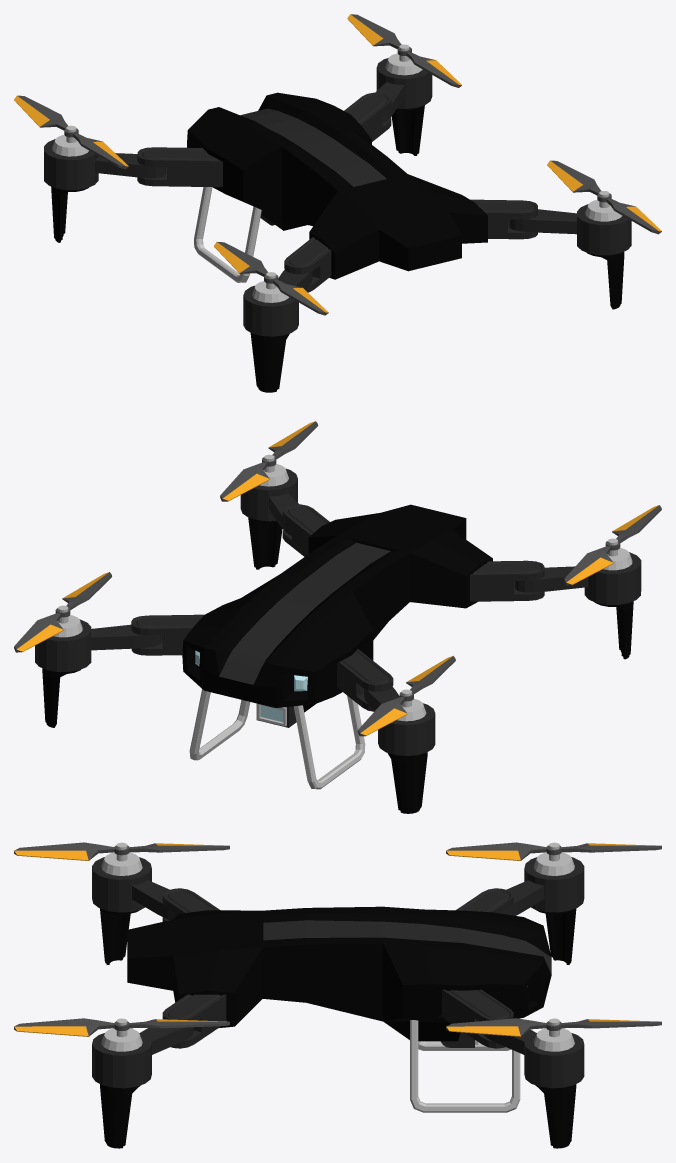
The picture shows the model from 3 angles, top to bottom: view 1: azimuth 30°, elevation 25°; view 2: azimuth 150°, elevation 25°; view 3: azimuth 270°, elevation 25°; orthographic projection. The views are drawn at different scales.
Visible parts, largest first — view 1: Frame, RotorFL, RotorBL, RotorFR, RotorBR; view 2: Frame, RotorBL, RotorFR, RotorBR, RotorFL; view 3: Frame, RotorBL, RotorFL, RotorBR, RotorFR.
Boxes of the visible parts, x1=… form: Frame: x1=44, y1=44, x2=631, y2=392; RotorFL: x1=14, y1=95, x2=128, y2=169; RotorBL: x1=214, y1=242, x2=328, y2=315; RotorFR: x1=347, y1=14, x2=461, y2=87; RotorBR: x1=547, y1=160, x2=661, y2=234; Frame: x1=35, y1=454, x2=641, y2=813; RotorBL: x1=564, y1=505, x2=661, y2=585; RotorFR: x1=14, y1=572, x2=111, y2=652; RotorBR: x1=220, y1=421, x2=318, y2=501; RotorFL: x1=357, y1=656, x2=455, y2=736; Frame: x1=92, y1=842, x2=584, y2=1148; RotorBL: x1=14, y1=842, x2=229, y2=860; RotorFL: x1=446, y1=842, x2=661, y2=860; RotorBR: x1=14, y1=1018, x2=229, y2=1036; RotorFR: x1=446, y1=1018, x2=661, y2=1036.
Size of what is drawn, in the model's own units: 0.7949 by 0.2877 by 1.08.
Materials: 1 (1 with a texture image).
